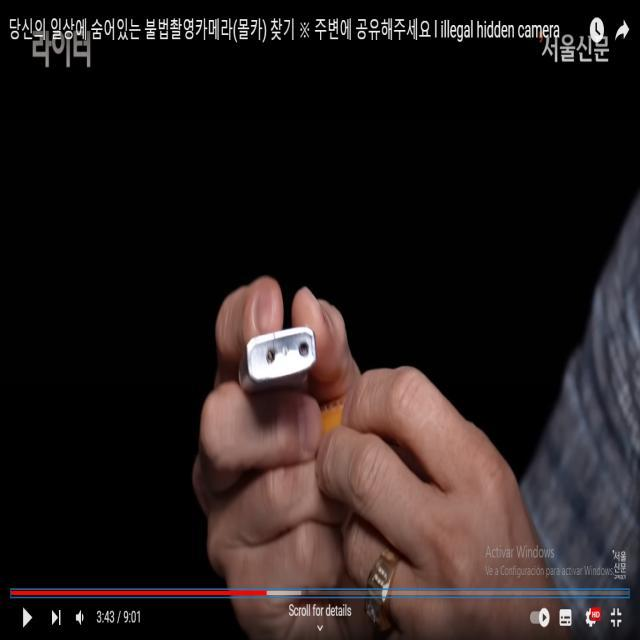hidden camera: (299, 338, 309, 360)
